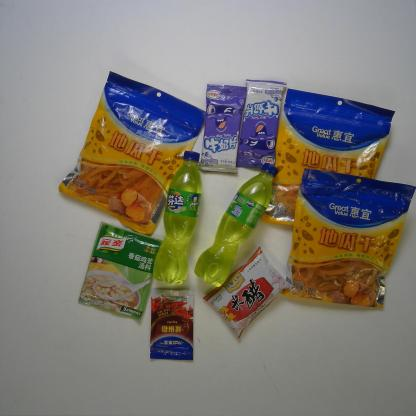Candy: (236, 77, 288, 176), (197, 82, 249, 174)
Dried Fruit: (56, 70, 208, 237), (277, 166, 416, 310), (260, 86, 397, 230)
Drink: (192, 161, 280, 289), (151, 150, 204, 288)
Seasoner: (75, 220, 164, 322), (201, 246, 295, 339), (146, 288, 196, 362)
